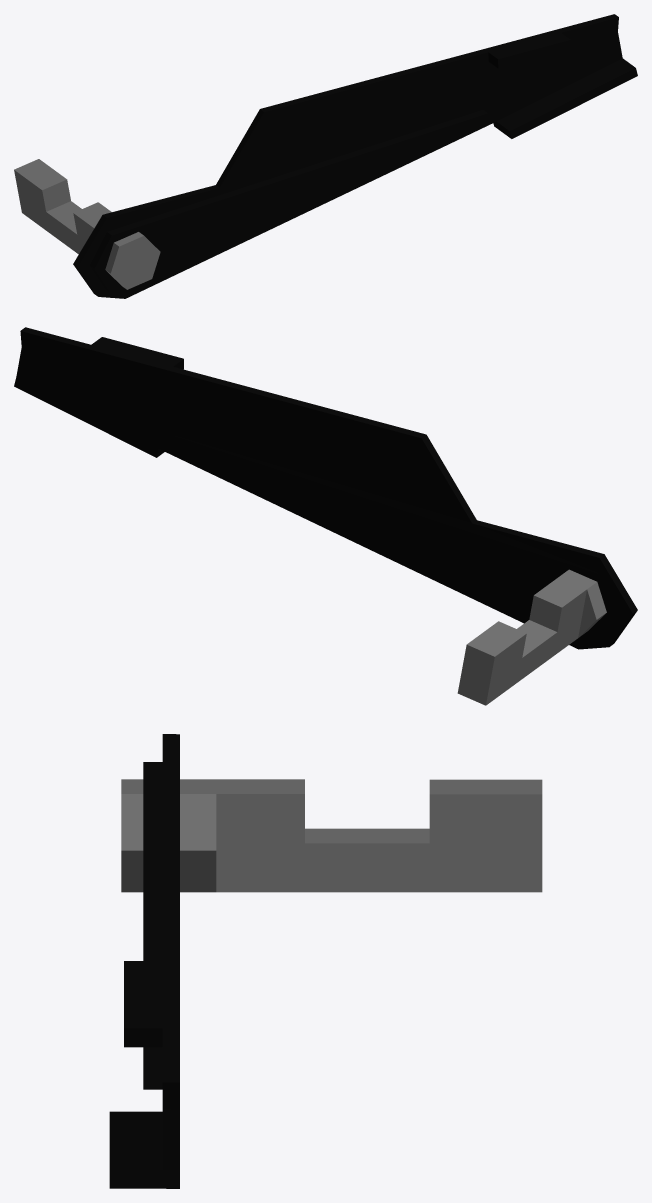
Rendered from SM_Kolotaynikov-74FiringSwitch.fbx.
The picture shows the model from 3 angles, top to bottom: view 1: azimuth 30°, elevation 25°; view 2: azimuth 150°, elevation 25°; view 3: azimuth 270°, elevation 25°; orthographic projection. The views are drawn at different scales.
Parts seen in each view (by area): view 1: Плоскость; view 2: Плоскость; view 3: Плоскость.
Part boxes in pixels (bbox=[...]): Плоскость: bbox=[14, 14, 637, 298]; Плоскость: bbox=[14, 327, 637, 705]; Плоскость: bbox=[109, 734, 542, 1188].
Bounding box in the file's own units: 11.2 × 3.15 × 3.83.
